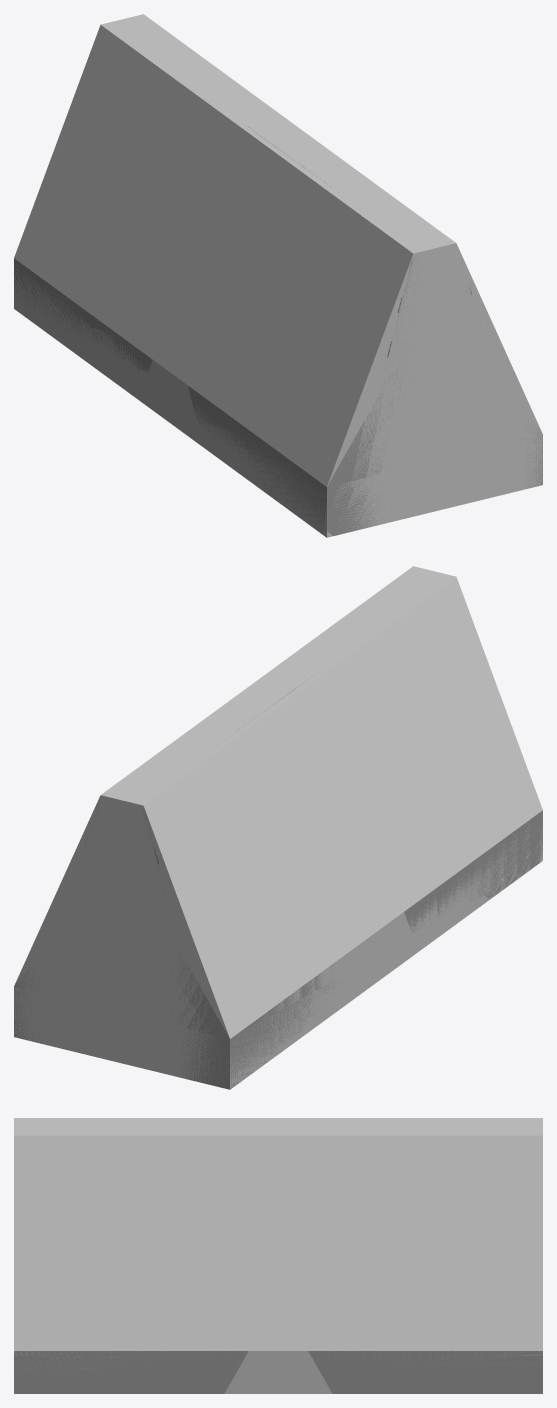
Rendered from SM_Barrier_01_b.fbx.
The picture shows the model from 3 angles, top to bottom: view 1: azimuth 30°, elevation 25°; view 2: azimuth 150°, elevation 25°; view 3: azimuth 270°, elevation 25°; orthographic projection. The views are drawn at different scales.
Parts seen in each view (by area): view 1: SM_Barrier_01_b_ConvexHulls, SM_Barrier_01_b; view 2: SM_Barrier_01_b_ConvexHulls, SM_Barrier_01_b; view 3: SM_Barrier_01_b_ConvexHulls, SM_Barrier_01_b.
Boxes of the visible parts, left/top/right/bottom form: SM_Barrier_01_b_ConvexHulls: left=14, top=14, right=542, bottom=537; SM_Barrier_01_b: left=14, top=120, right=542, bottom=535; SM_Barrier_01_b_ConvexHulls: left=14, top=566, right=542, bottom=1089; SM_Barrier_01_b: left=14, top=679, right=542, bottom=1089; SM_Barrier_01_b_ConvexHulls: left=14, top=1118, right=542, bottom=1393; SM_Barrier_01_b: left=14, top=1351, right=542, bottom=1393.
Size of the model in its own units: 67.51 by 169 by 78.52.
2 materials, 1 textured.
